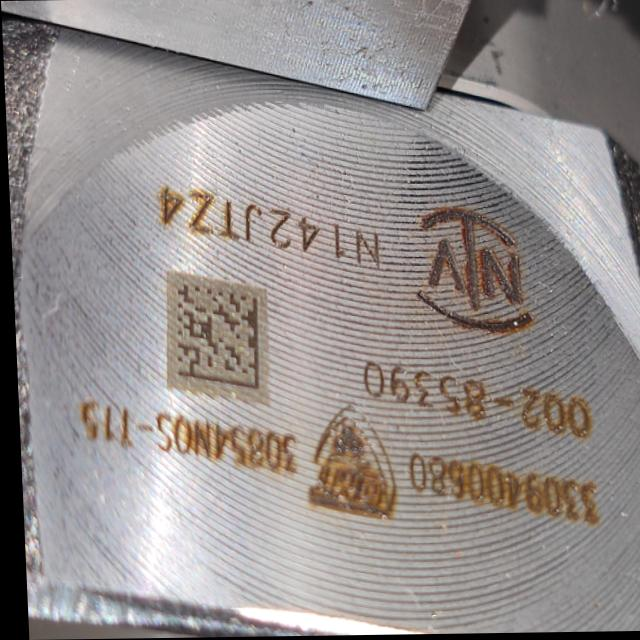dmc: (173, 283, 255, 389)
